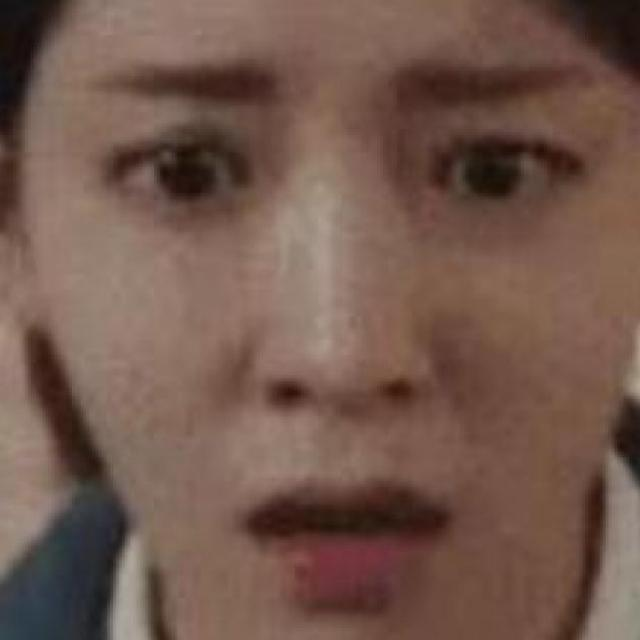surprised: (50, 25, 601, 640)
